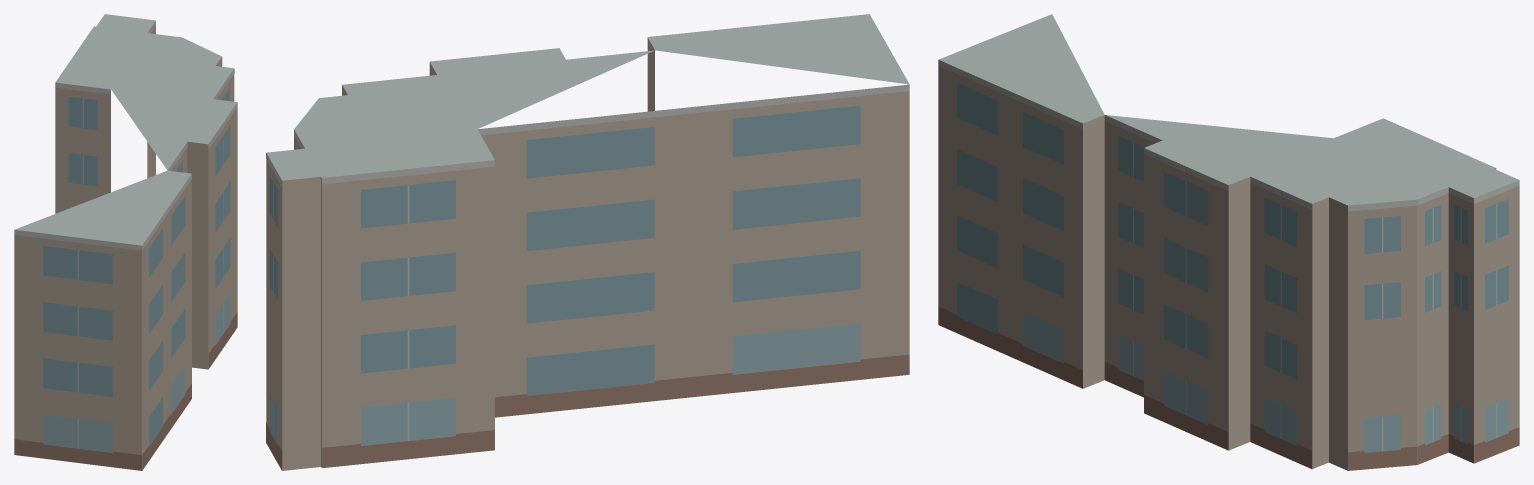
Rendered from survey-upis-32543366.glb.
3 renders of one model, left to right at view 1: azimuth 30°, elevation 25°; view 2: azimuth 150°, elevation 25°; view 3: azimuth 270°, elevation 25°, orthographic. The views are drawn at different scales.
Visible parts, largest first — view 1: survey-upis-32543366.tmp; view 2: survey-upis-32543366.tmp; view 3: survey-upis-32543366.tmp.
Part boxes in pixels (<box>): survey-upis-32543366.tmp: <box>14,14,237,470</box>; survey-upis-32543366.tmp: <box>266,14,909,470</box>; survey-upis-32543366.tmp: <box>938,14,1519,470</box>.
Bounding box in the file's own units: 16.73 × 10.8 × 21.44.
